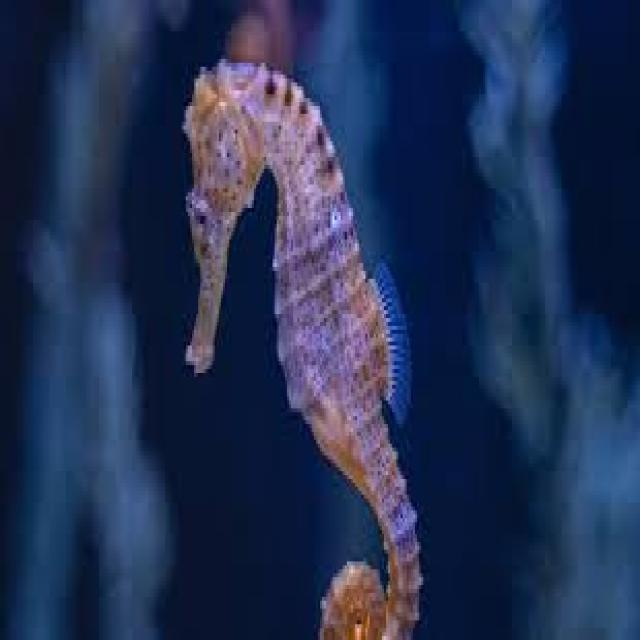SeaHorse: (182, 59, 424, 640)
